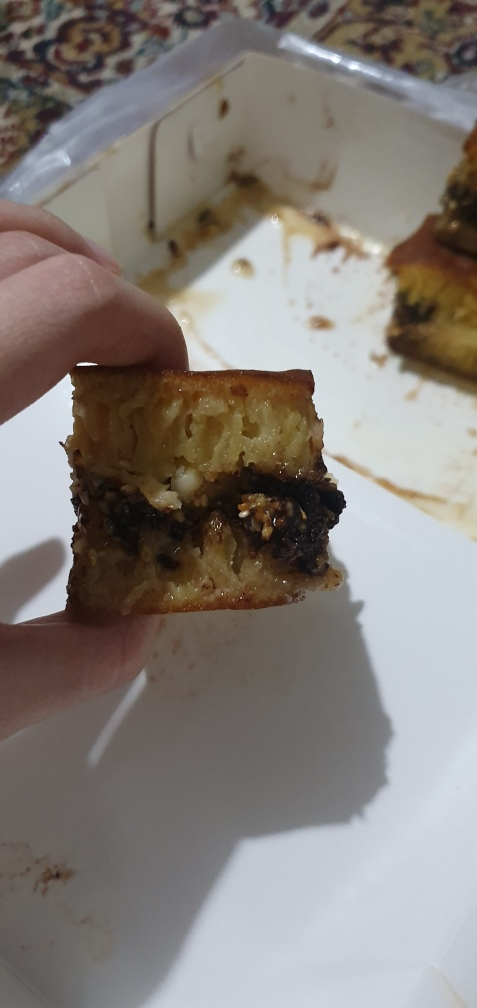martabak manis: (63, 361, 347, 625)
